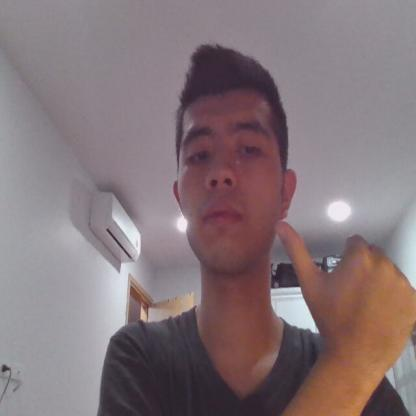right: (274, 211, 416, 369)
